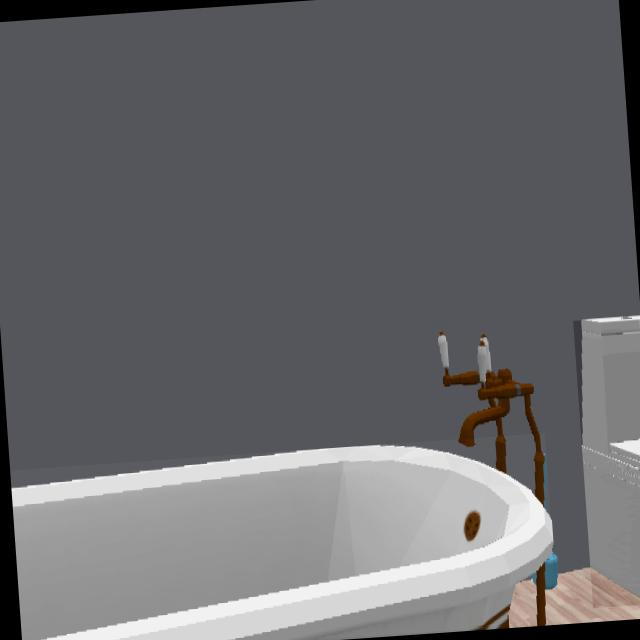bathtube: (11, 446, 552, 640)
toilet: (582, 317, 640, 595)
